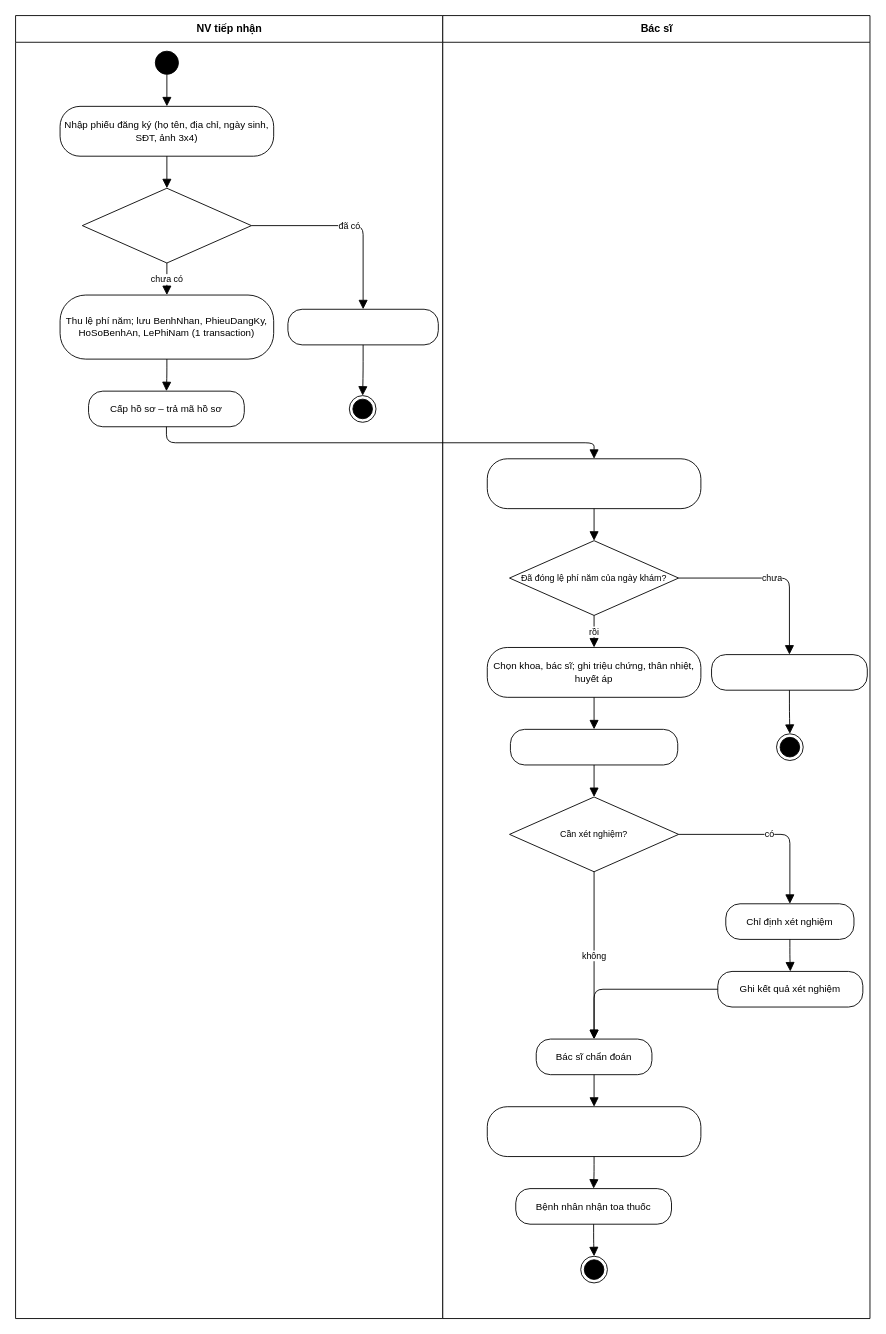
This 886x1334 diagram has some shape labels left out. Here are the shapes that lost their labels. From the top down, the centre of each, then its label:
At point (166, 225): "Hồ sơ đã tồn tại?".
At point (362, 326): "Từ chối: gia hạn lệ phí".
At point (593, 483): "Tra cứu hồ sơ (mã hồ sơ / họ tên / SĐT)".
At point (789, 672): "Từ chối: yêu cầu gia hạn".
At point (594, 746): "Lập phiếu khám (Đang khám)".
At point (593, 1131): "Lập toa thuốc (thuốc, số lượng, liều dùng)".
